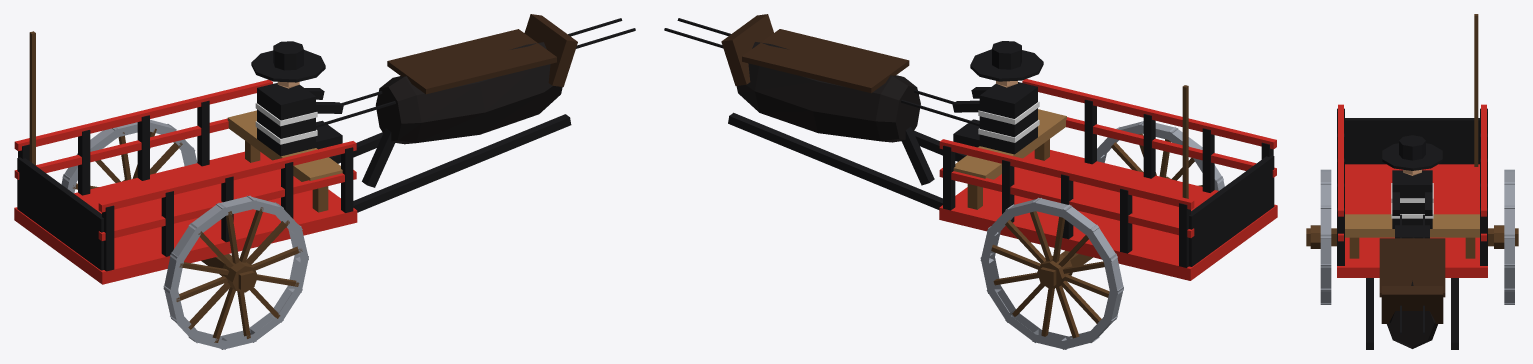
The model's file is carreta_potro_body.obj.
3 renders of one model, left to right at view 1: azimuth 30°, elevation 25°; view 2: azimuth 150°, elevation 25°; view 3: azimuth 270°, elevation 25°, orthographic. The views are drawn at different scales.
Visible parts, largest first — view 1: carreta_potro_body; view 2: carreta_potro_body; view 3: carreta_potro_body.
Boxes of the visible parts, x1,y1,x2,y2 form: carreta_potro_body: (14, 14, 635, 349); carreta_potro_body: (664, 14, 1277, 349); carreta_potro_body: (1306, 14, 1518, 349).
Bounding box in the file's own units: 5.82 × 2.69 × 2.2.
